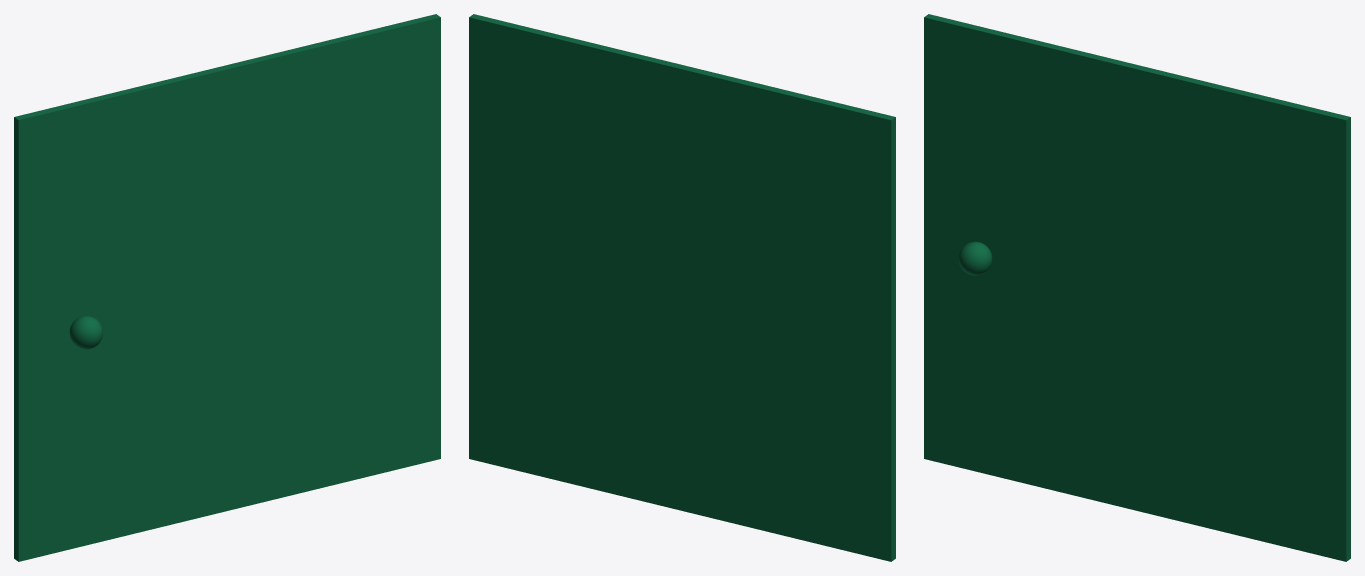
Rendered from puertaDerBuro.OBJ.
3 renders of one model, left to right at view 1: azimuth 30°, elevation 25°; view 2: azimuth 150°, elevation 25°; view 3: azimuth 330°, elevation 25°, orthographic.
Visible parts, largest first — view 1: pCube10; view 2: pCube10; view 3: pCube10.
Boxes of the visible parts, left/top/right/bottom form: pCube10: left=14, top=14, right=440, bottom=561; pCube10: left=469, top=14, right=895, bottom=561; pCube10: left=924, top=14, right=1350, bottom=561.
Size of the model in its own units: 1 by 1 by 0.087.
1 material, 1 textured.
